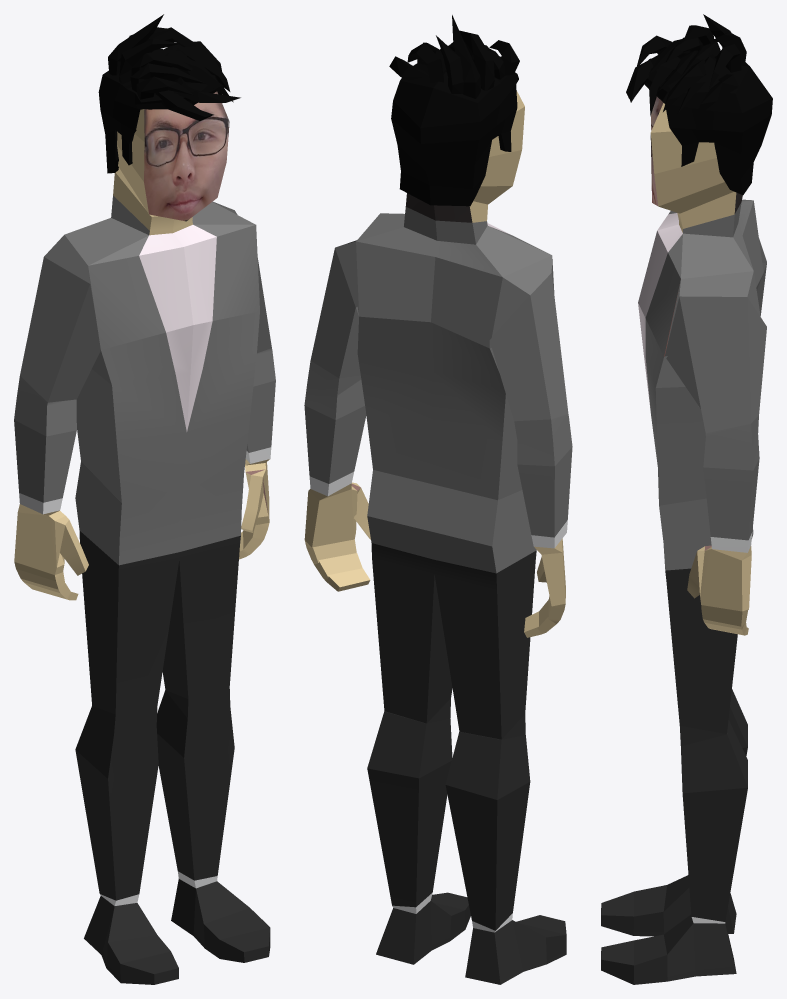
File: Valen3.fbx
3 views of the same model, side by side, from view 1: azimuth 30°, elevation 25°; view 2: azimuth 150°, elevation 25°; view 3: azimuth 270°, elevation 25° (orthographic). The views are drawn at different scales.
Parts seen in each view (by area): view 1: Bro_006, Hair_07; view 2: Bro_006, Hair_07; view 3: Bro_006, Hair_07.
Part boxes in pixels (box(x1,y1,x2,y2)): Bro_006: box(14, 91, 275, 984); Hair_07: box(98, 14, 240, 173); Bro_006: box(304, 91, 572, 984); Hair_07: box(389, 15, 519, 206); Bro_006: box(601, 96, 766, 984); Hair_07: box(626, 14, 772, 194).
Bounding box in the file's own units: 3565 × 12361 × 2058.
7 materials, 1 textured.
